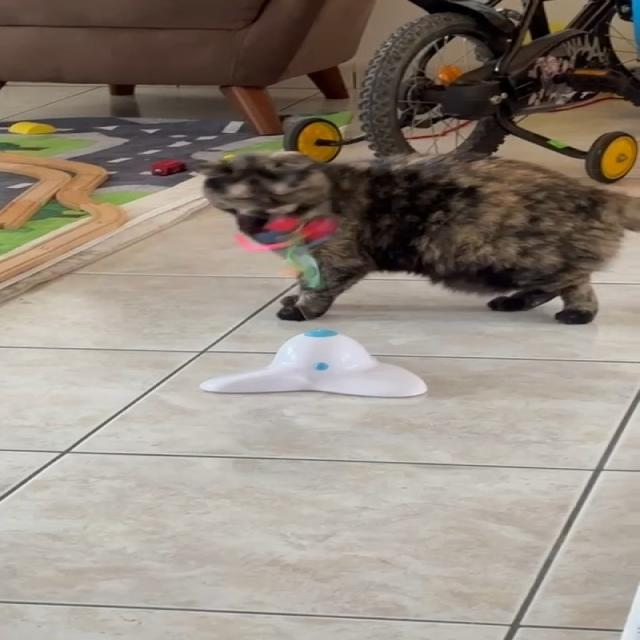authorized: (193, 148, 639, 324)
